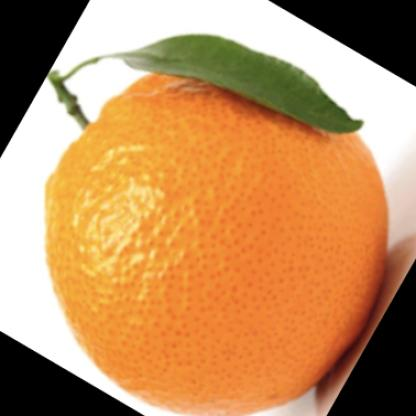fresh: (50, 54, 387, 416)
